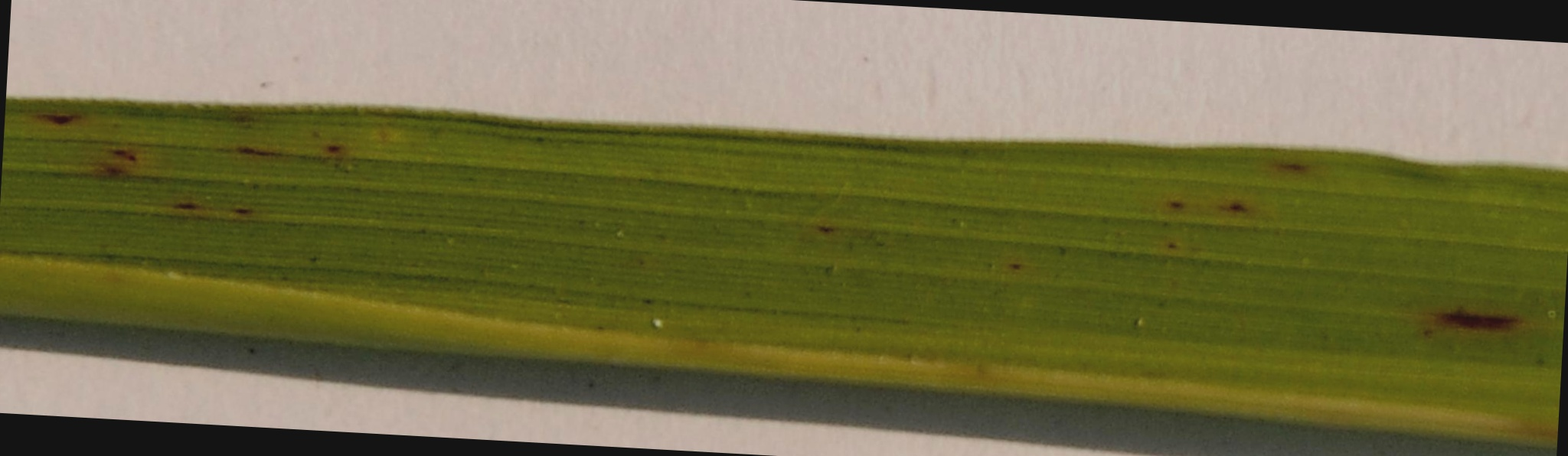Bacterial_Leaf_Blight: (19, 44, 402, 229), (1128, 181, 1271, 255), (1411, 296, 1538, 342)
